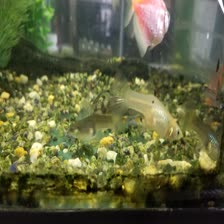Guppy: (112, 80, 181, 142), (184, 101, 223, 169), (55, 116, 119, 142)
Plano: (124, 0, 171, 50)
